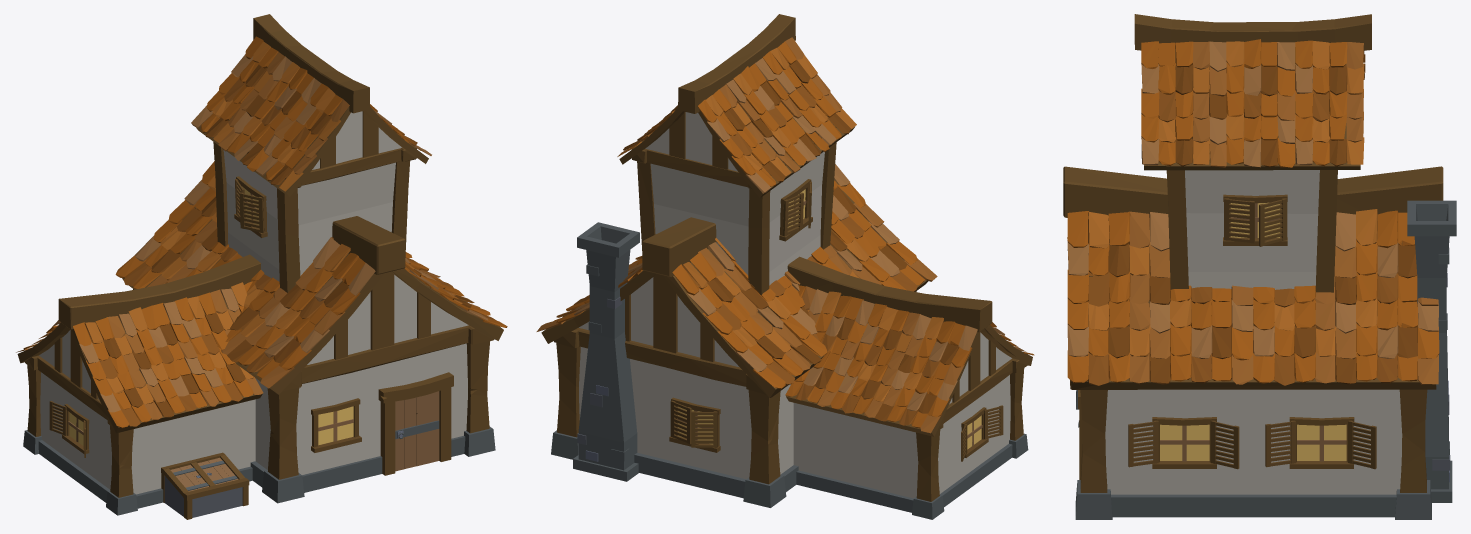
The model's file is House_05.fbx.
3 renders of one model, left to right at view 1: azimuth 30°, elevation 25°; view 2: azimuth 150°, elevation 25°; view 3: azimuth 270°, elevation 25°, orthographic. The views are drawn at different scales.
Visible parts, largest first — view 1: House_05; view 2: House_05; view 3: House_05.
Part boxes in pixels (<box>): House_05: <box>16,14,507,519</box>; House_05: <box>536,14,1034,519</box>; House_05: <box>1063,14,1456,519</box>.
Bounding box in the file's own units: 8.86 × 8.47 × 6.88.
